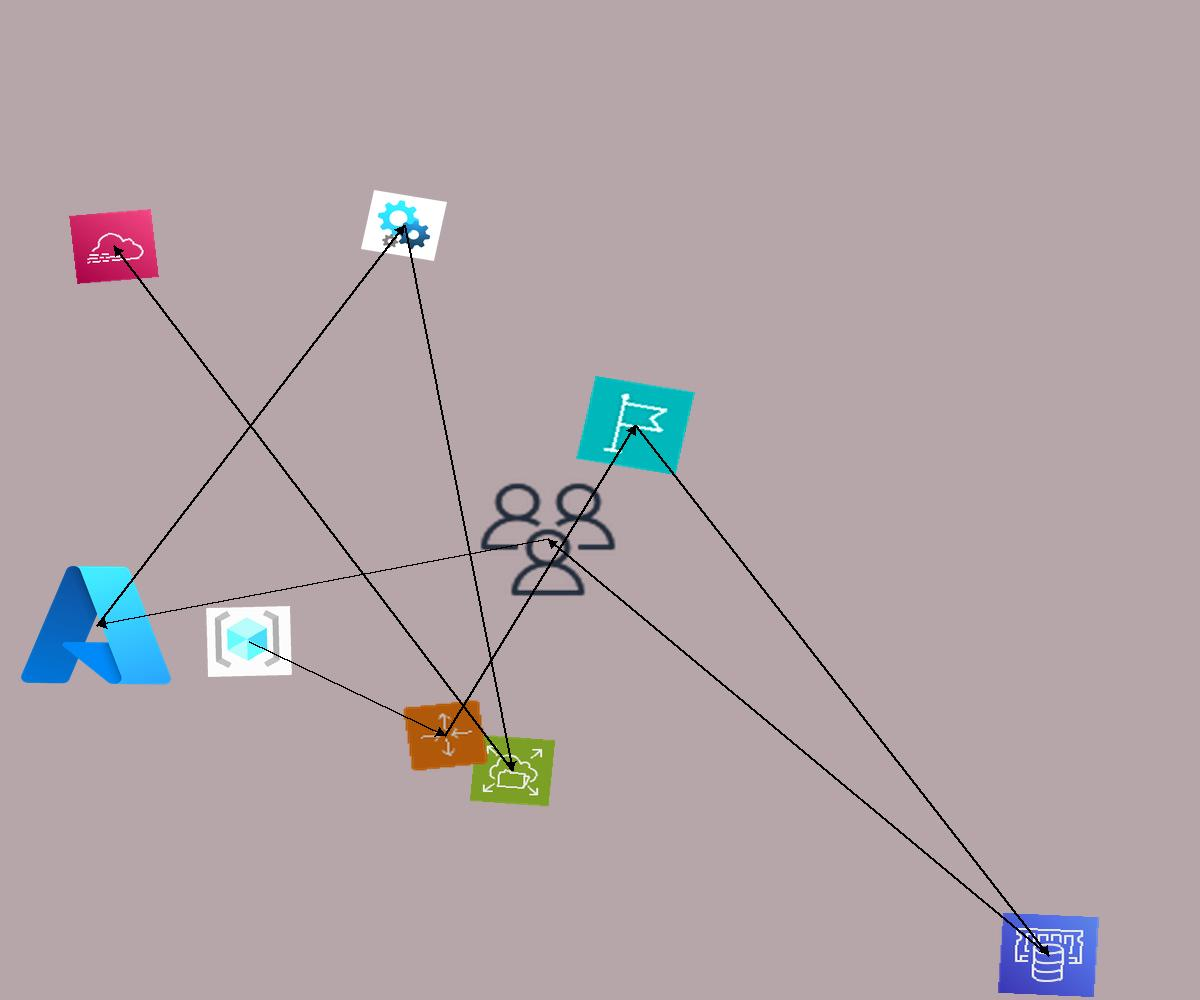AWS-CloudTrail: (69, 209, 159, 284)
AWS-EFS: (469, 734, 556, 807)
AWS-ElastiCache: (997, 912, 1100, 998)
AWS-Region: (575, 375, 696, 476)
AWS-Res_Users: (472, 476, 624, 603)
AWS-Scaling-group: (402, 699, 489, 772)
Azure_api: (361, 190, 447, 261)
Azure_resource_group: (206, 606, 292, 677)
Azure_services: (14, 556, 180, 694)
